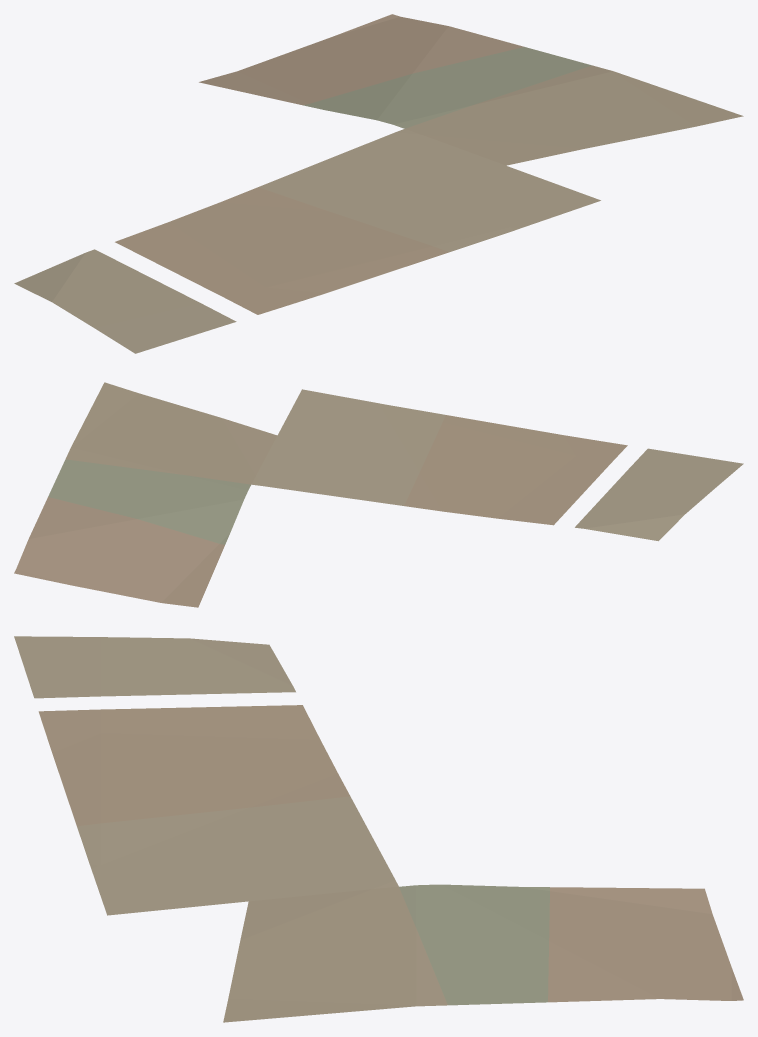
The model's file is farm_5_15_soil.glb.
The picture shows the model from 3 angles, top to bottom: view 1: azimuth 30°, elevation 25°; view 2: azimuth 150°, elevation 25°; view 3: azimuth 270°, elevation 25°; orthographic projection. The views are drawn at different scales.
Visible parts, largest first — view 1: geometry_0; view 2: geometry_0; view 3: geometry_0.
Boxes of the visible parts, x1,y1,x2,y2 form: geometry_0: (14, 14, 743, 353); geometry_0: (14, 382, 743, 607); geometry_0: (14, 636, 743, 1022).
Bounding box in the file's own units: 233 × 14.48 × 185.
